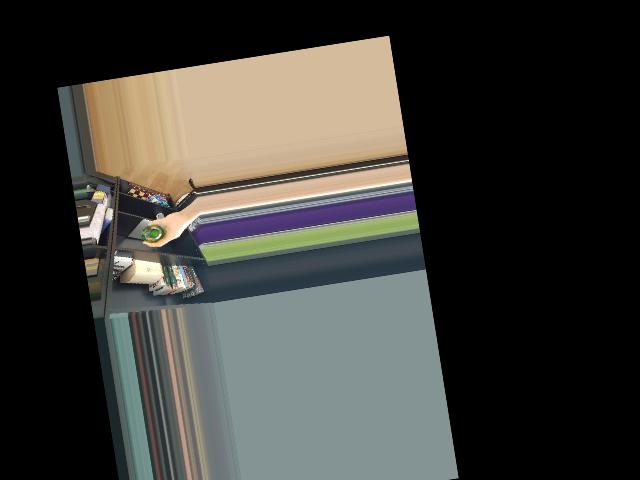beer: (141, 222, 165, 243)
